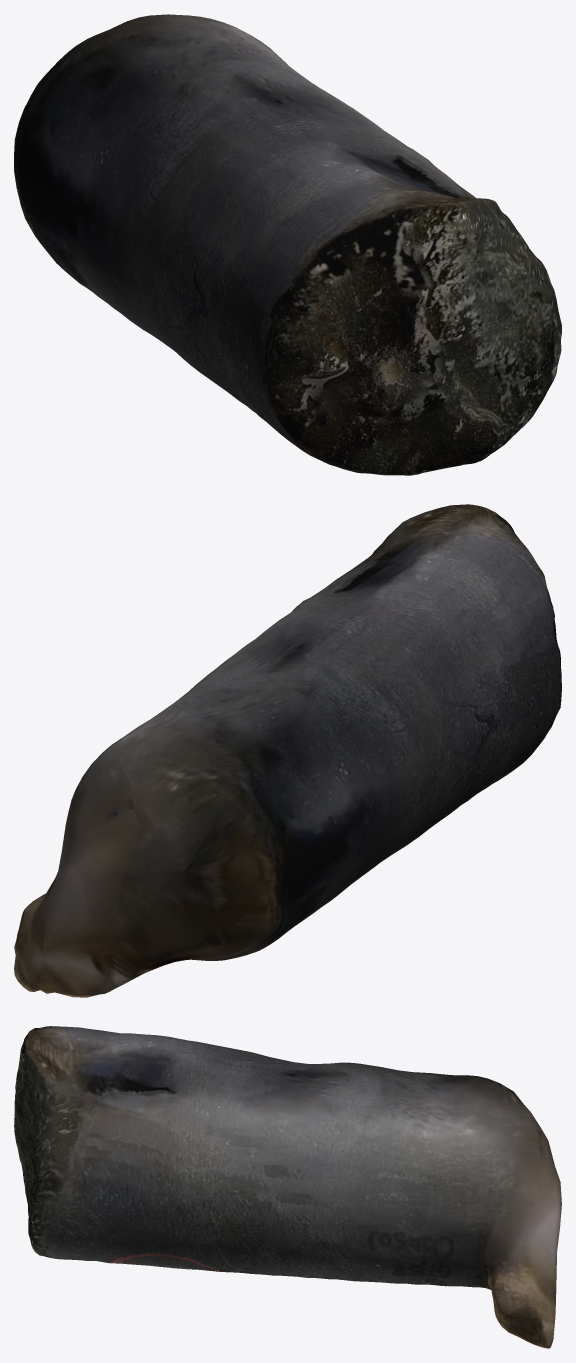
File: PECLD07758 T11.glb
3 renders of one model, top to bottom at view 1: azimuth 30°, elevation 25°; view 2: azimuth 150°, elevation 25°; view 3: azimuth 270°, elevation 25°, orthographic. The views are drawn at different scales.
Parts seen in each view (by area): view 1: baked_mesh; view 2: baked_mesh; view 3: baked_mesh.
Part boxes in pixels (x1=…): baked_mesh: x1=14, y1=14, x2=561, y2=475; baked_mesh: x1=14, y1=504, x2=561, y2=997; baked_mesh: x1=14, y1=1026, x2=561, y2=1348.
Size of the model in its own units: 0.1639 by 0.1674 by 0.3309.
Materials: 1 (1 with a texture image).
